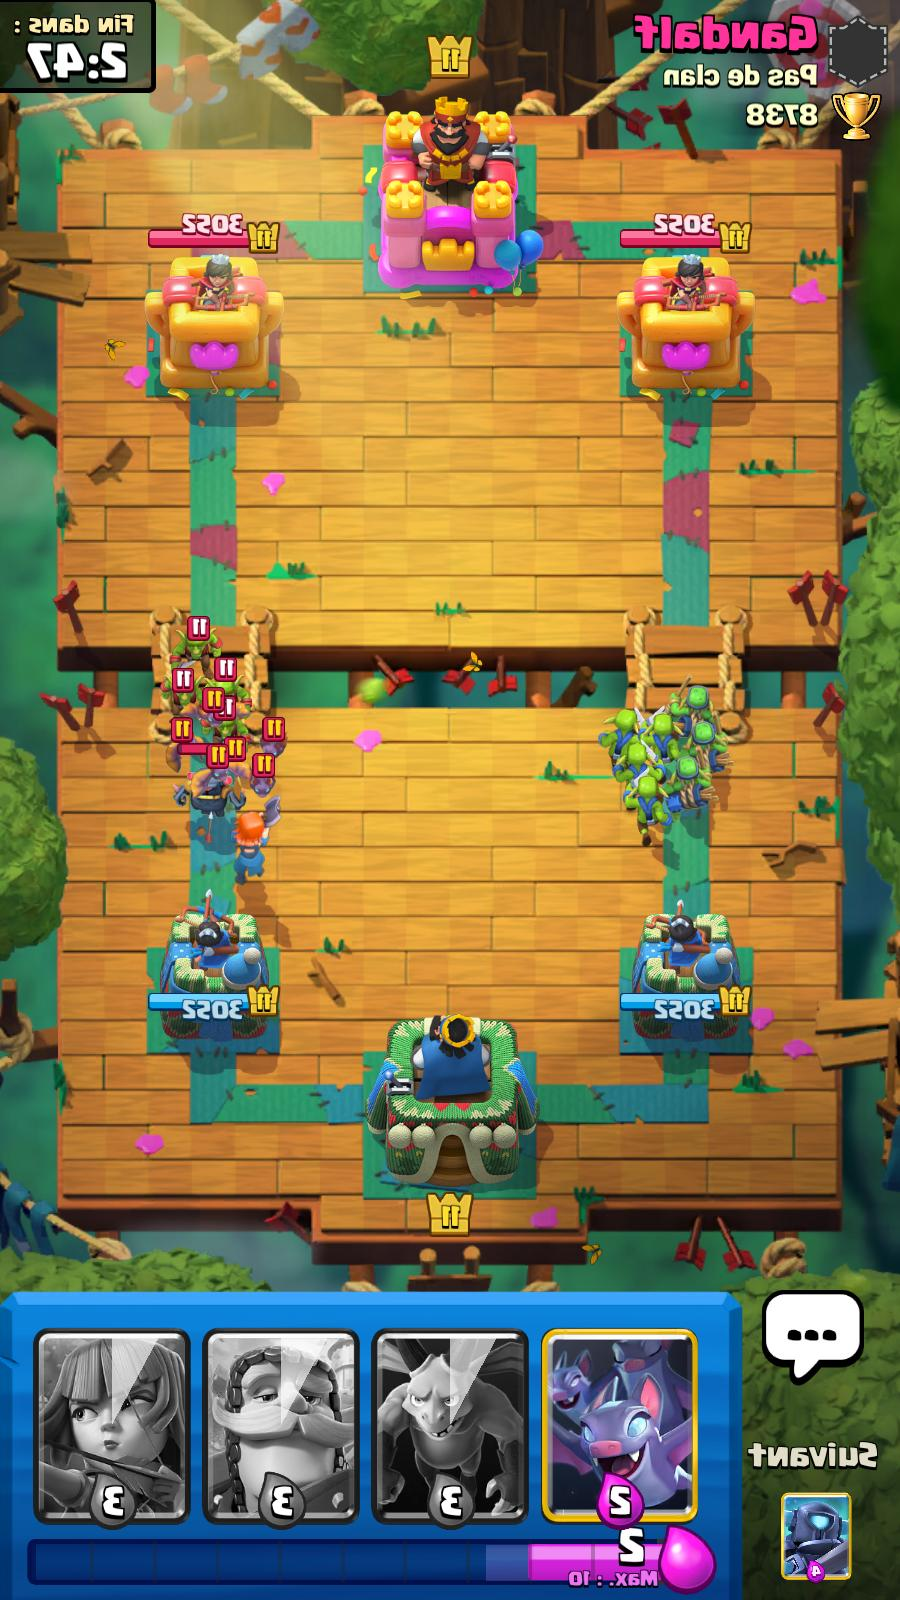bat: (189, 741, 245, 797), (162, 719, 204, 774), (185, 688, 237, 730), (254, 716, 289, 760), (244, 755, 279, 798)
gobelin: (592, 704, 651, 774), (621, 775, 676, 845), (164, 616, 224, 678), (631, 712, 687, 774), (610, 743, 665, 803), (203, 658, 254, 722), (198, 705, 251, 763), (156, 665, 204, 720)
gobelin_lances: (667, 676, 725, 752), (679, 716, 732, 779), (667, 755, 713, 818)
mini_PEKKA: (166, 773, 244, 822)
valkyrie: (221, 799, 282, 885)
